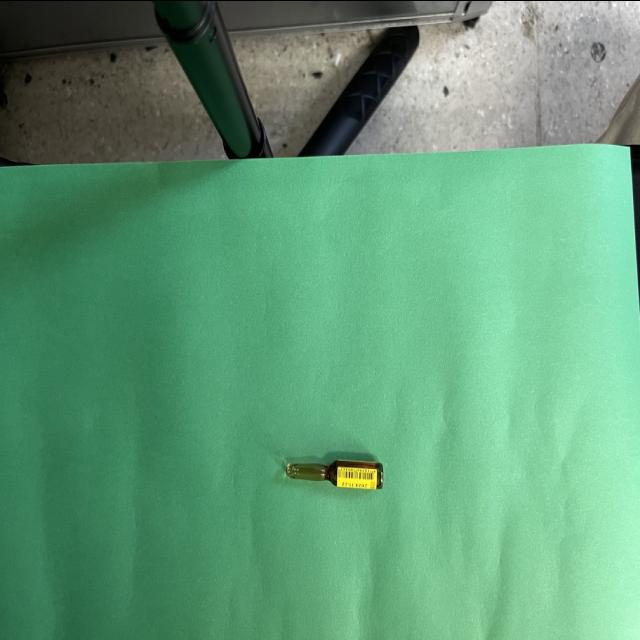Ampoules: (286, 459, 383, 488)
